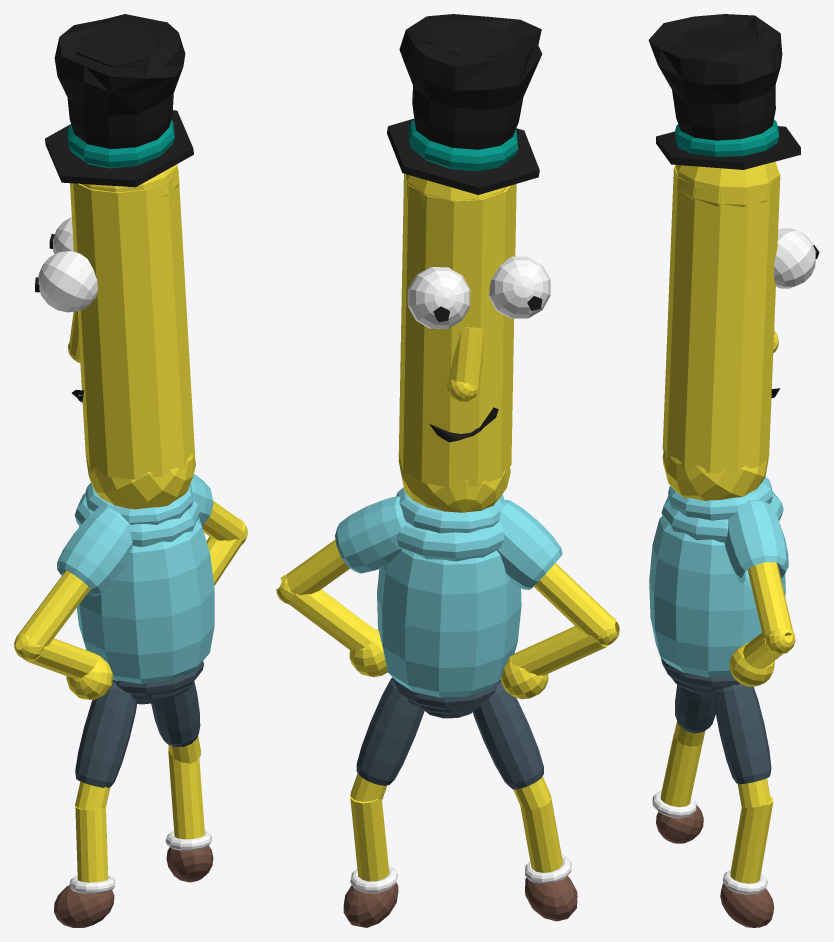
The model's file is scene_dG3ssmz4Om.glb.
3 views of the same model, side by side, from view 1: azimuth 30°, elevation 25°; view 2: azimuth 150°, elevation 25°; view 3: azimuth 270°, elevation 25° (orthographic). The views are drawn at different scales.
Parts seen in each view (by area): view 1: group1608770708, group816207539, group1288103892, group1973763530, group1218168578, group1322114860, group1942139557, group914447578, group1158102954, group263928393, group247154379, group1986848065 (+19 smaller); view 2: group1608770708, group816207539, group1288103892, group1973763530, group1322114860, group875598661, group450078619, group1218168578, group103741404, group1158102954, group1412155647, group1942139557 (+18 smaller); view 3: group1608770708, group816207539, group1288103892, group875598661, group450078619, group1011500733, group1942139557, group1322114860, group263928393, group288454485, group103741404, group1986848065 (+15 smaller).
Part boxes in pixels (<box>): group1608770708: <box>70,169,195,479</box>; group816207539: <box>76,517,214,683</box>; group1288103892: <box>54,14,185,149</box>; group1973763530: <box>75,681,137,788</box>; group1218168578: <box>57,507,132,596</box>; group1322114860: <box>45,110,193,187</box>; group1942139557: <box>86,454,195,509</box>; group914447578: <box>75,17,163,68</box>; group1158102954: <box>38,251,97,312</box>; group263928393: <box>168,748,204,839</box>; group247154379: <box>17,570,90,651</box>; group1986848065: <box>75,806,108,882</box>; group1608770708: <box>398,173,516,487</box>; group816207539: <box>377,550,521,697</box>; group1288103892: <box>399,14,542,149</box>; group1973763530: <box>473,682,543,789</box>; group1322114860: <box>387,118,539,194</box>; group875598661: <box>356,678,424,785</box>; group450078619: <box>335,496,406,573</box>; group1218168578: <box>497,499,562,589</box>; group103741404: <box>407,267,470,328</box>; group1158102954: <box>489,256,550,318</box>; group1412155647: <box>396,521,504,561</box>; group1942139557: <box>398,457,510,512</box>; group1608770708: <box>662,165,780,473</box>; group816207539: <box>649,516,785,677</box>; group1288103892: <box>648,14,782,140</box>; group875598661: <box>713,683,771,784</box>; group450078619: <box>724,500,788,587</box>; group1011500733: <box>675,161,779,207</box>; group1942139557: <box>662,449,768,500</box>; group1322114860: <box>656,126,800,169</box>; group263928393: <box>730,796,773,883</box>; group288454485: <box>747,562,792,638</box>; group103741404: <box>774,228,815,288</box>; group1986848065: <box>660,733,702,807</box>.
Size of the model in its own units: 0.205 by 0.6137 by 0.1117.
